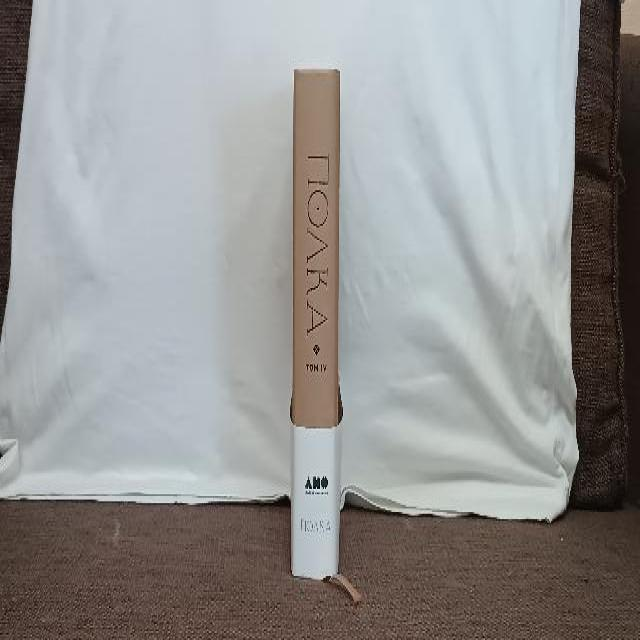book: (292, 70, 339, 580)
